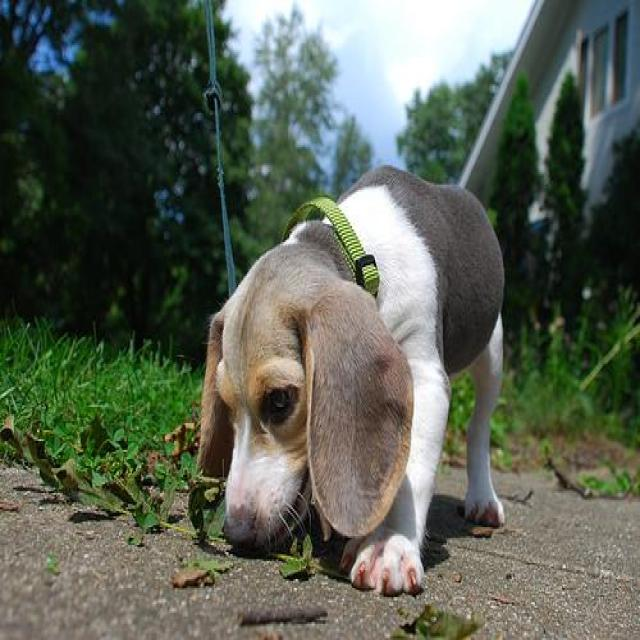beagle: (189, 163, 507, 602)
